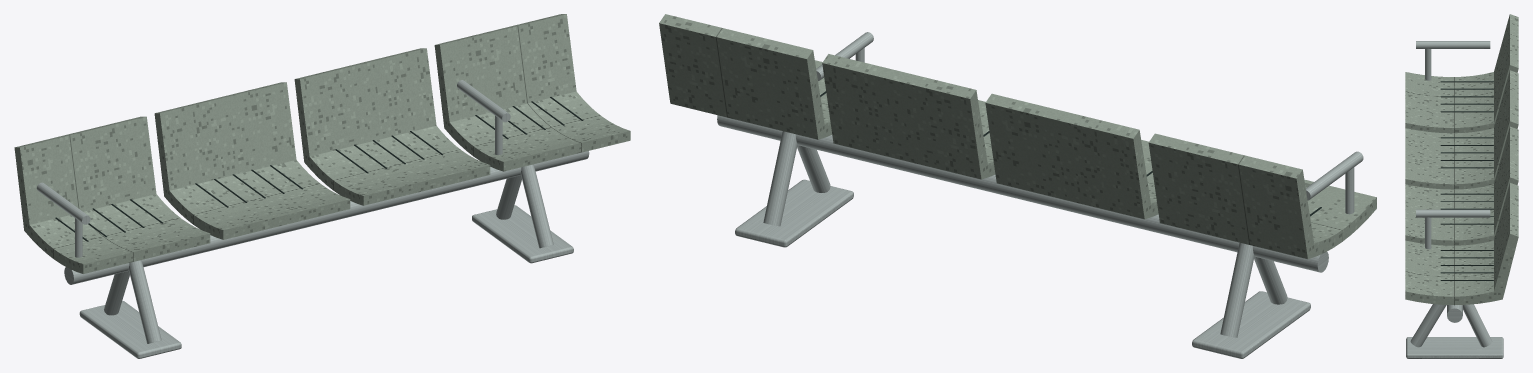
File: detail-bench-sage-0.glb
3 renders of one model, left to right at view 1: azimuth 30°, elevation 25°; view 2: azimuth 150°, elevation 25°; view 3: azimuth 270°, elevation 25°, orthographic. The views are drawn at different scales.
Parts seen in each view (by area): view 1: curved_seat_back (×4), bolted_foot (×2), underseat_beam, support_leg (×4), arm_rest (×2); view 2: curved_seat_back (×4), bolted_foot (×2), underseat_beam, support_leg (×4), arm_rest; view 3: curved_seat_back (×4), bolted_foot, seat_perforation (×13), arm_rest (×2), support_leg (×2), arm_support (×2), underseat_beam.
Part boxes in pixels (x1,y1,x2,y2): curved_seat_back (×4): [14, 14, 630, 273]; bolted_foot (×2): [79, 205, 573, 358]; underseat_beam: [64, 151, 589, 284]; support_leg (×4): [104, 164, 553, 343]; arm_rest (×2): [36, 80, 510, 224]; curved_seat_back (×4): [659, 14, 1376, 258]; bolted_foot (×2): [735, 179, 1310, 358]; underseat_beam: [717, 115, 1328, 272]; support_leg (×4): [763, 131, 1287, 337]; arm_rest: [1305, 151, 1363, 200]; curved_seat_back (×4): [1405, 14, 1518, 305]; bolted_foot: [1406, 337, 1503, 358]; seat_perforation (×13): [1440, 81, 1493, 273]; arm_rest (×2): [1416, 41, 1490, 217]; support_leg (×2): [1410, 304, 1492, 347]; arm_support (×2): [1425, 48, 1431, 249]; underseat_beam: [1447, 305, 1462, 322].
Bounding box in the file's own units: 2.93 × 0.9225 × 0.64.
Materials: 3 (3 with a texture image).
